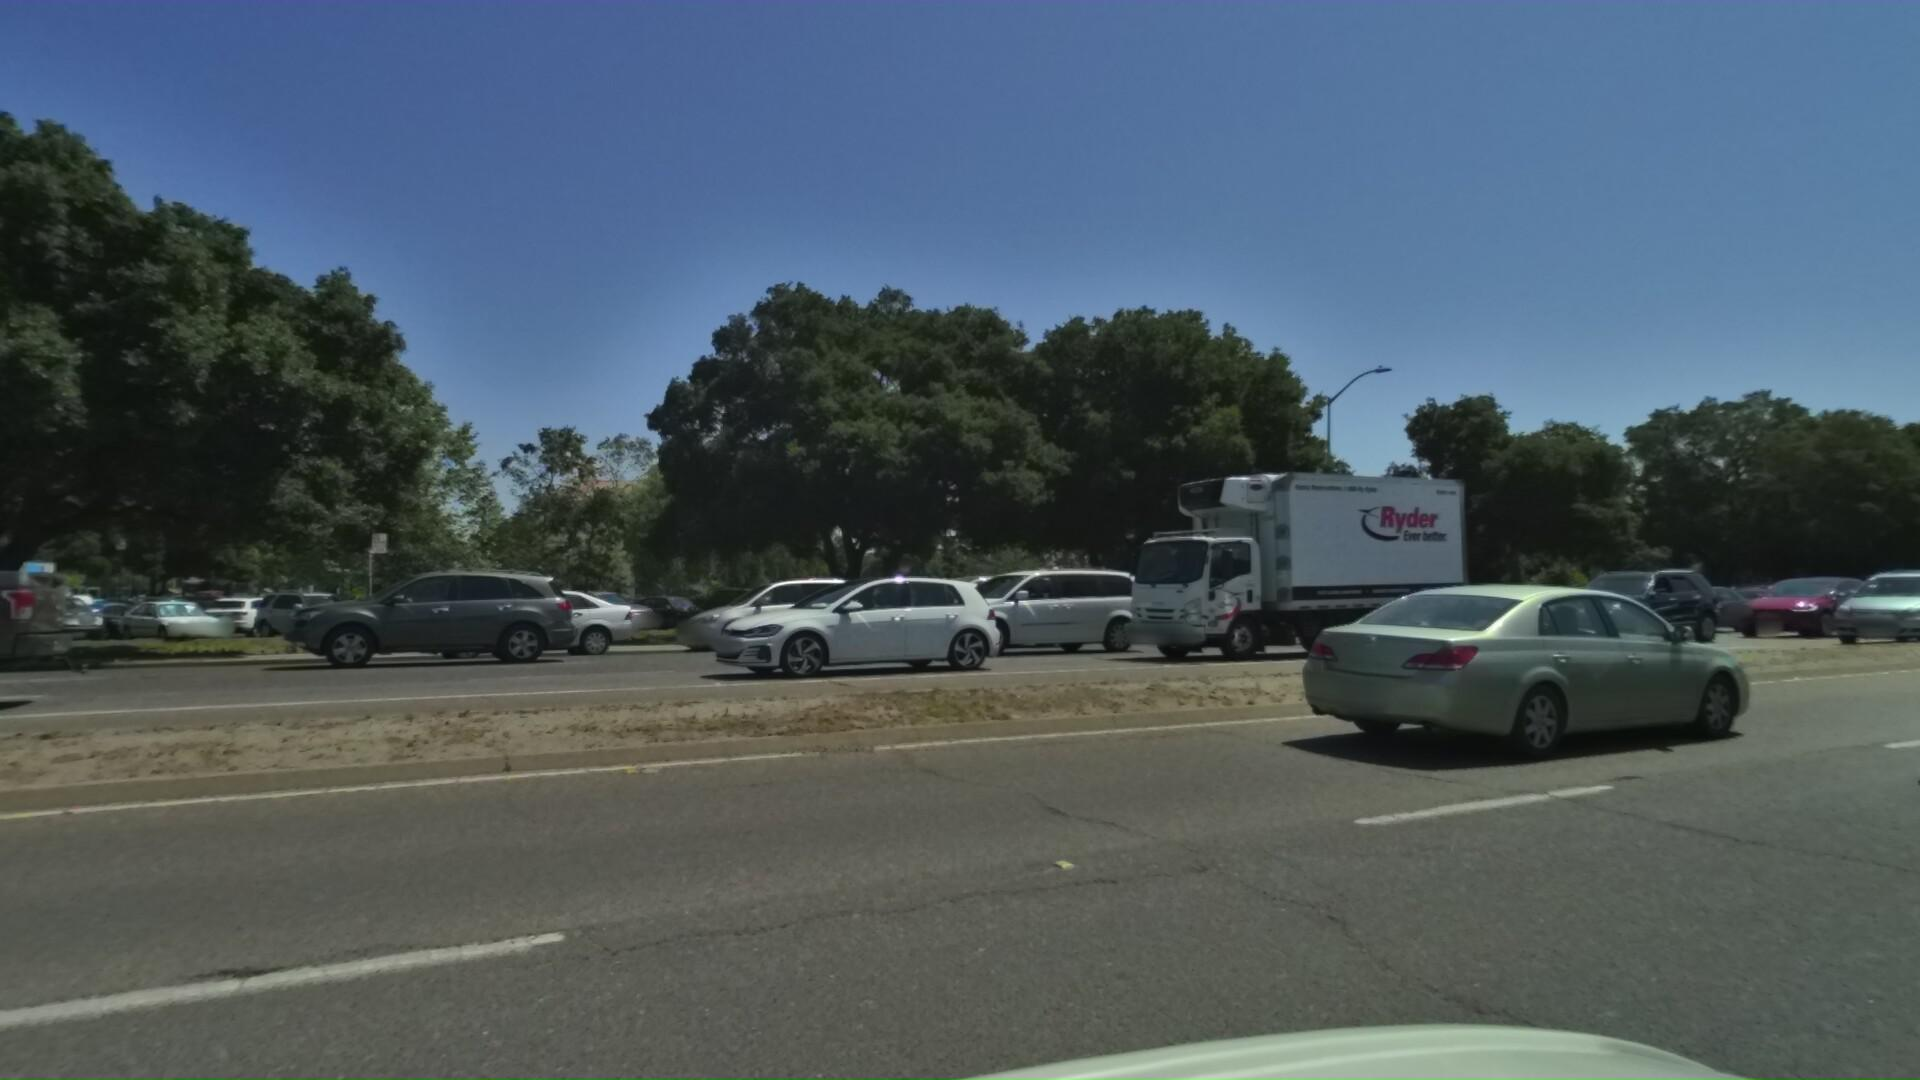car: (1292, 575, 1778, 771), (650, 563, 971, 676), (227, 554, 545, 666), (880, 554, 1146, 651), (373, 578, 618, 675), (642, 567, 885, 657), (833, 563, 1067, 655), (1503, 556, 1716, 641), (1785, 553, 1920, 640), (1701, 568, 1882, 632), (0, 493, 41, 773), (1894, 587, 1920, 841), (1626, 579, 1766, 626)
truck: (1065, 446, 1466, 662)
